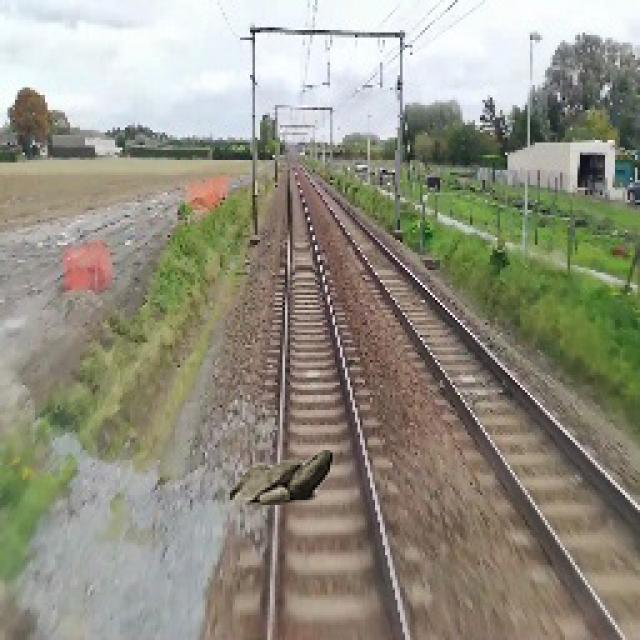danger: (226, 442, 339, 518)
rail: (235, 156, 445, 640)
